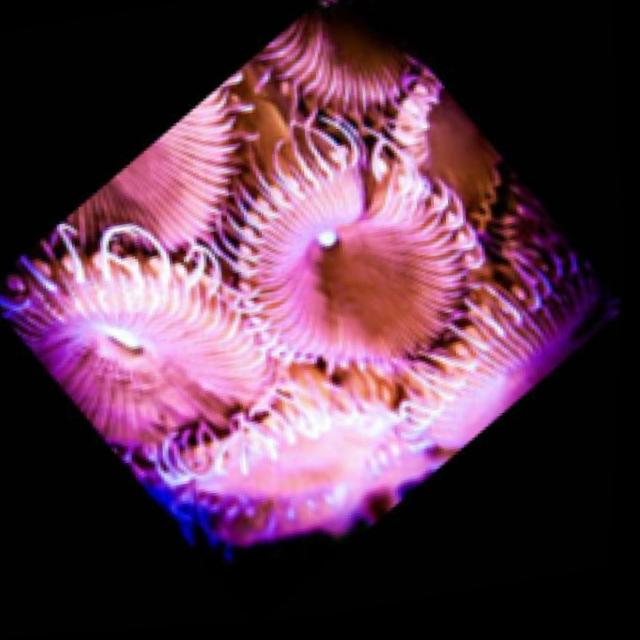Healthy Coral: (227, 118, 515, 393), (3, 215, 288, 463)
